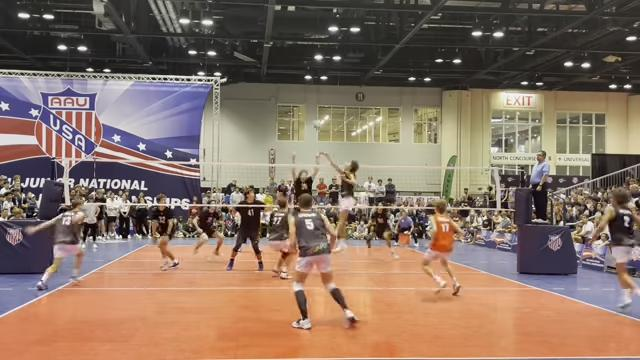Attack: (264, 201, 298, 281)
Block: (291, 148, 320, 208)
Player: (289, 194, 357, 329), (593, 189, 639, 309), (25, 198, 84, 290), (423, 200, 462, 295), (227, 187, 264, 270), (151, 194, 179, 270), (268, 197, 293, 278), (193, 206, 223, 255), (371, 208, 398, 258)
Set: (319, 150, 362, 255)
ball: (311, 118, 321, 132)
